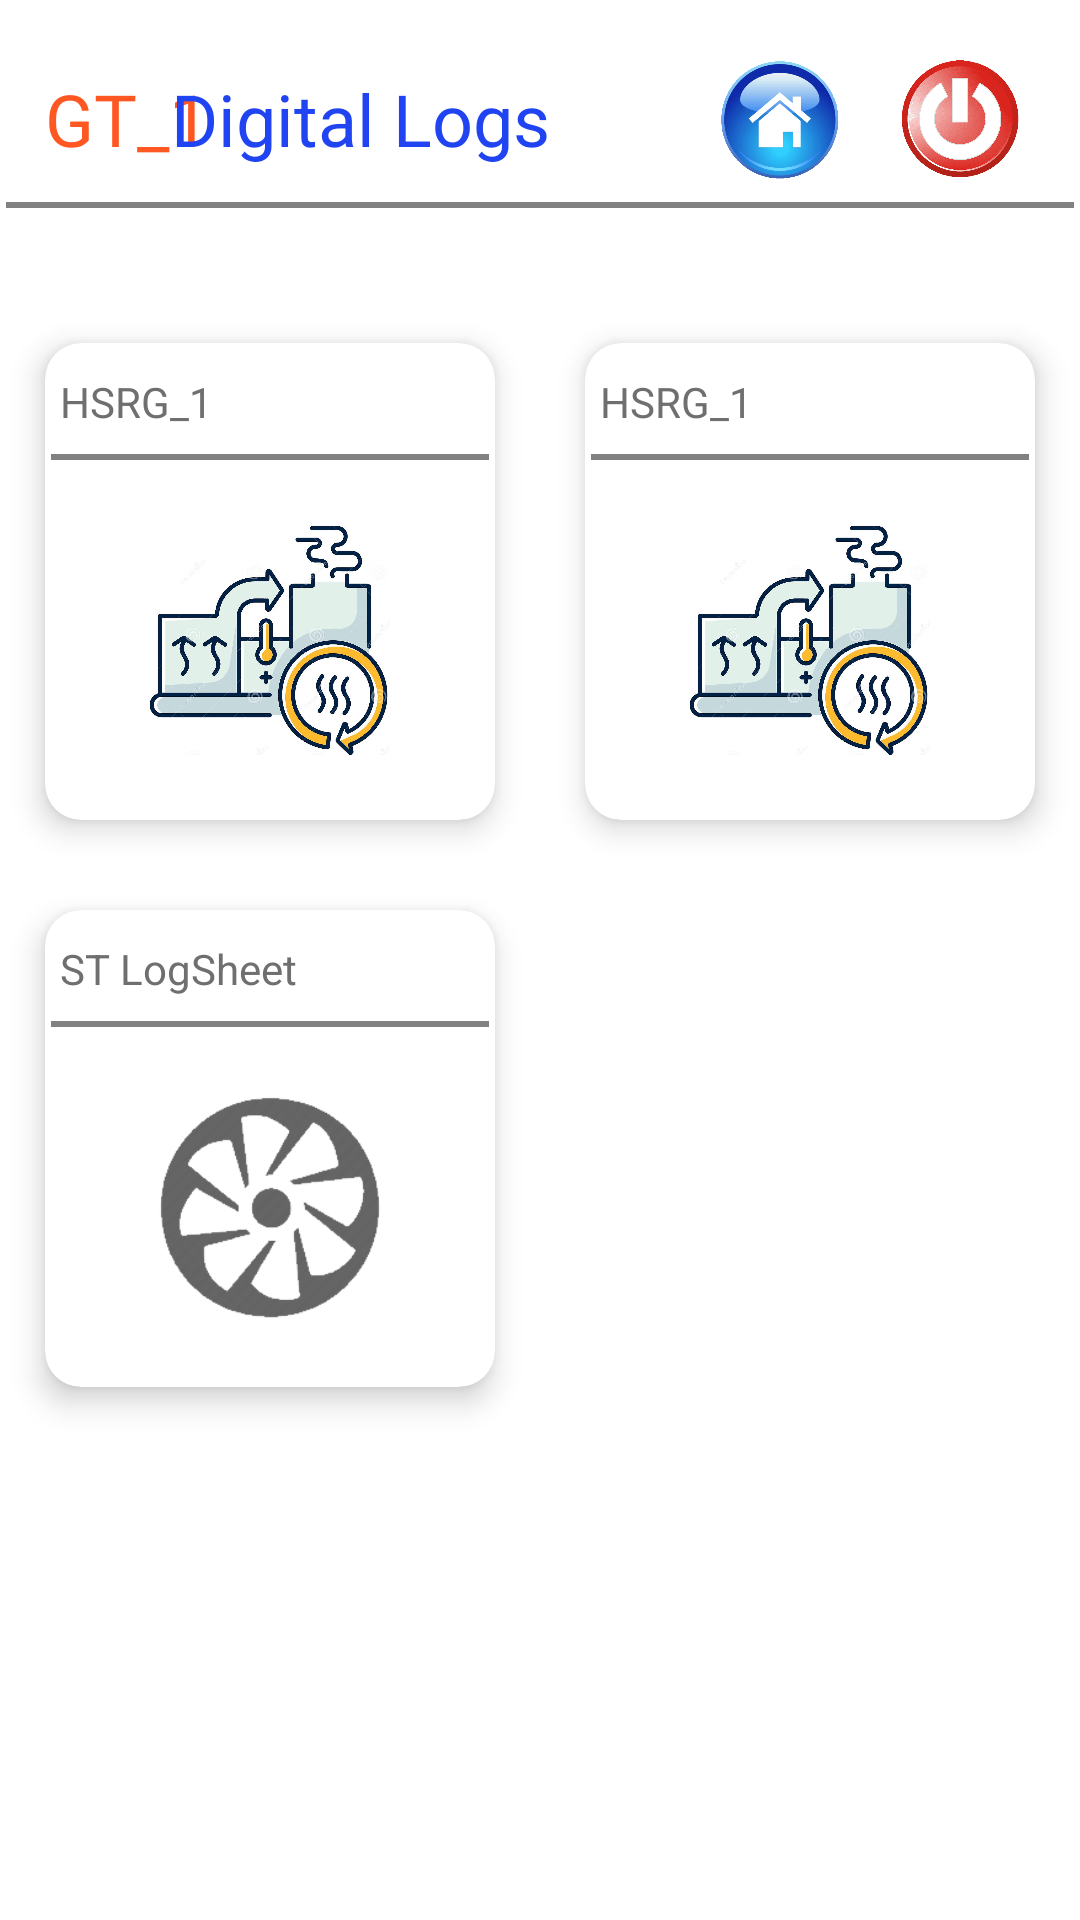

Icons on this 1080px×1920px Android screen, each with its box as (x1, y1, x2, y2):
heat recovery: (150, 526, 388, 755), (690, 526, 928, 755)
home: (721, 61, 839, 179)
sign out: (902, 60, 1019, 177)
